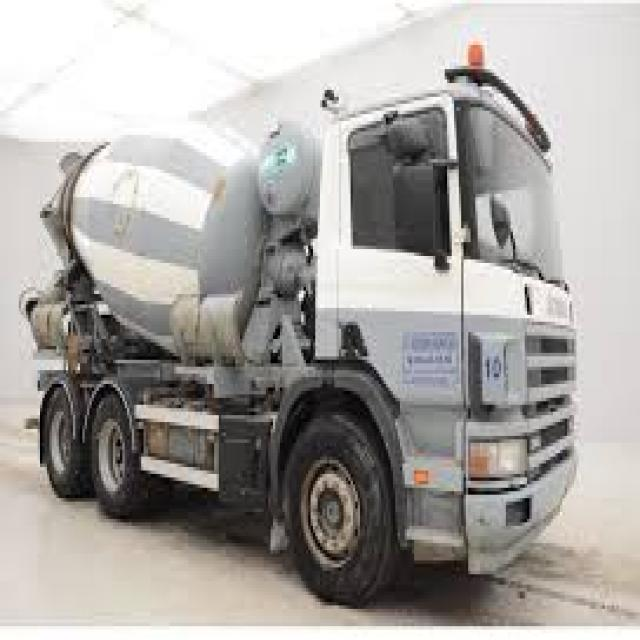Mixer Truck: (19, 34, 583, 604)
